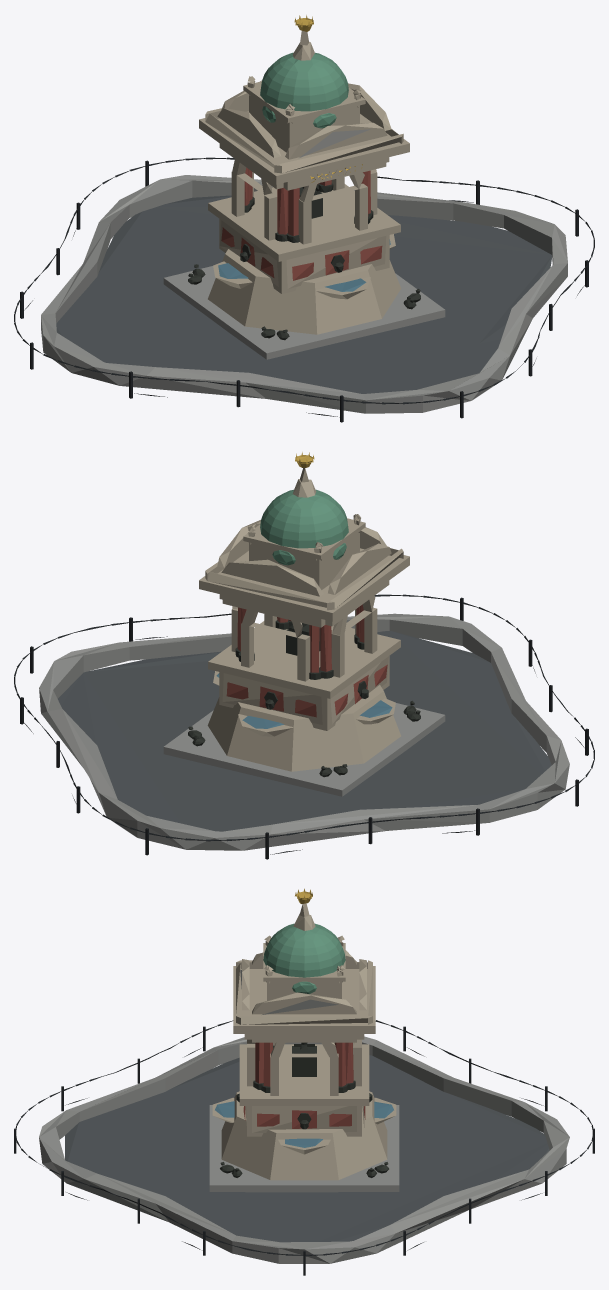
The model's file is sarphatimonument.lod1.glb.
3 renders of one model, top to bottom at view 1: azimuth 30°, elevation 25°; view 2: azimuth 150°, elevation 25°; view 3: azimuth 270°, elevation 25°, orthographic. The views are drawn at different scales.
Parts seen in each view (by area): view 1: sarphatimonument; view 2: sarphatimonument; view 3: sarphatimonument.
Part boxes in pixels (x1,y1,x2,y2): sarphatimonument: [14, 15, 594, 422]; sarphatimonument: [14, 452, 594, 859]; sarphatimonument: [14, 888, 594, 1275].
Bounding box in the file's own units: 23.3 × 11.56 × 23.3.
